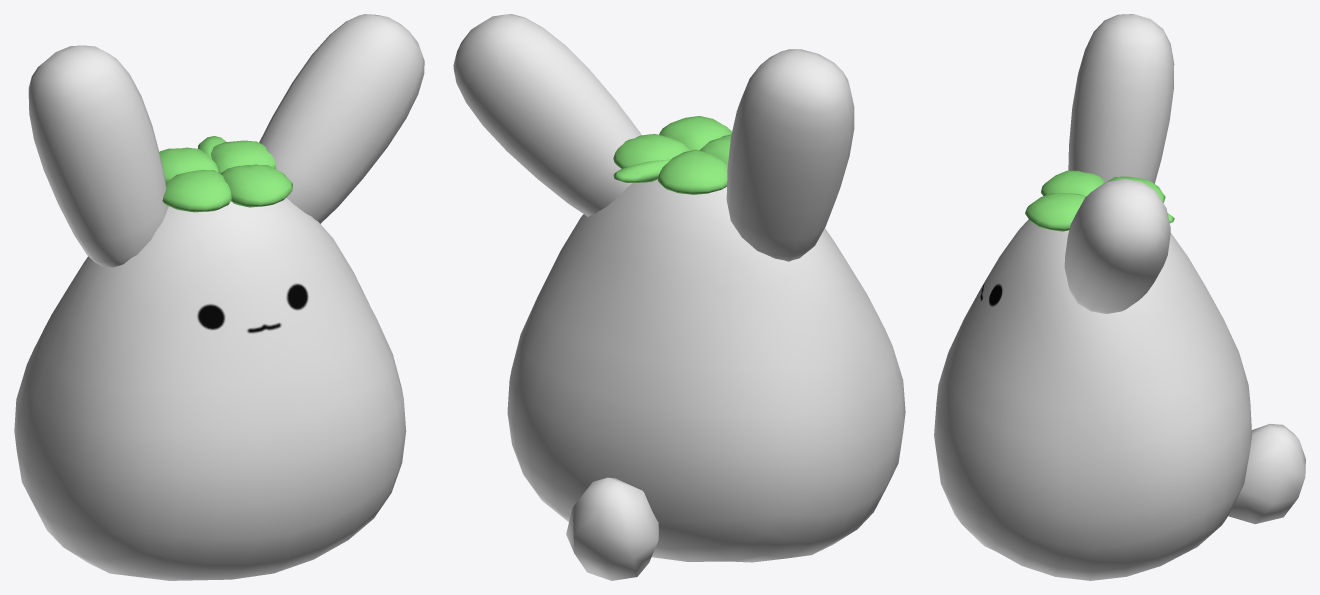
The model's file is rabbit_clover_v0.5.glb.
3 renders of one model, left to right at view 1: azimuth 30°, elevation 25°; view 2: azimuth 150°, elevation 25°; view 3: azimuth 270°, elevation 25°, orthographic. The views are drawn at different scales.
Parts seen in each view (by area): view 1: body, ear.01, ear.02, clover.003, clover.001, clover.002, clover; view 2: body, ear.02, ear.01, tail, clover, clover.002, clover.001, clover.004; view 3: body, ear.01, ear.02, tail, clover.001, clover.003.
Boxes of the visible parts, x1,y1,x2,y2 form: body: [14, 198, 406, 580]; ear.01: [28, 45, 168, 267]; ear.02: [259, 14, 424, 223]; clover.003: [162, 170, 231, 212]; clover.001: [221, 164, 292, 207]; clover.002: [211, 140, 275, 173]; clover: [159, 147, 218, 182]; body: [507, 179, 905, 562]; ear.02: [453, 14, 641, 216]; ear.01: [726, 49, 854, 261]; tail: [566, 477, 658, 580]; clover: [658, 149, 727, 194]; clover.002: [613, 134, 690, 168]; clover.001: [659, 116, 731, 150]; clover.004: [613, 159, 671, 182]; body: [934, 219, 1251, 580]; ear.01: [1068, 14, 1174, 183]; ear.02: [1064, 178, 1170, 313]; tail: [1228, 424, 1305, 524]; clover.001: [1025, 193, 1086, 231]; clover.003: [1041, 170, 1105, 195].
Size of what is drawn, in the model's own units: 2.15 by 2.64 by 1.91.
Materials: 3 (1 with a texture image).
